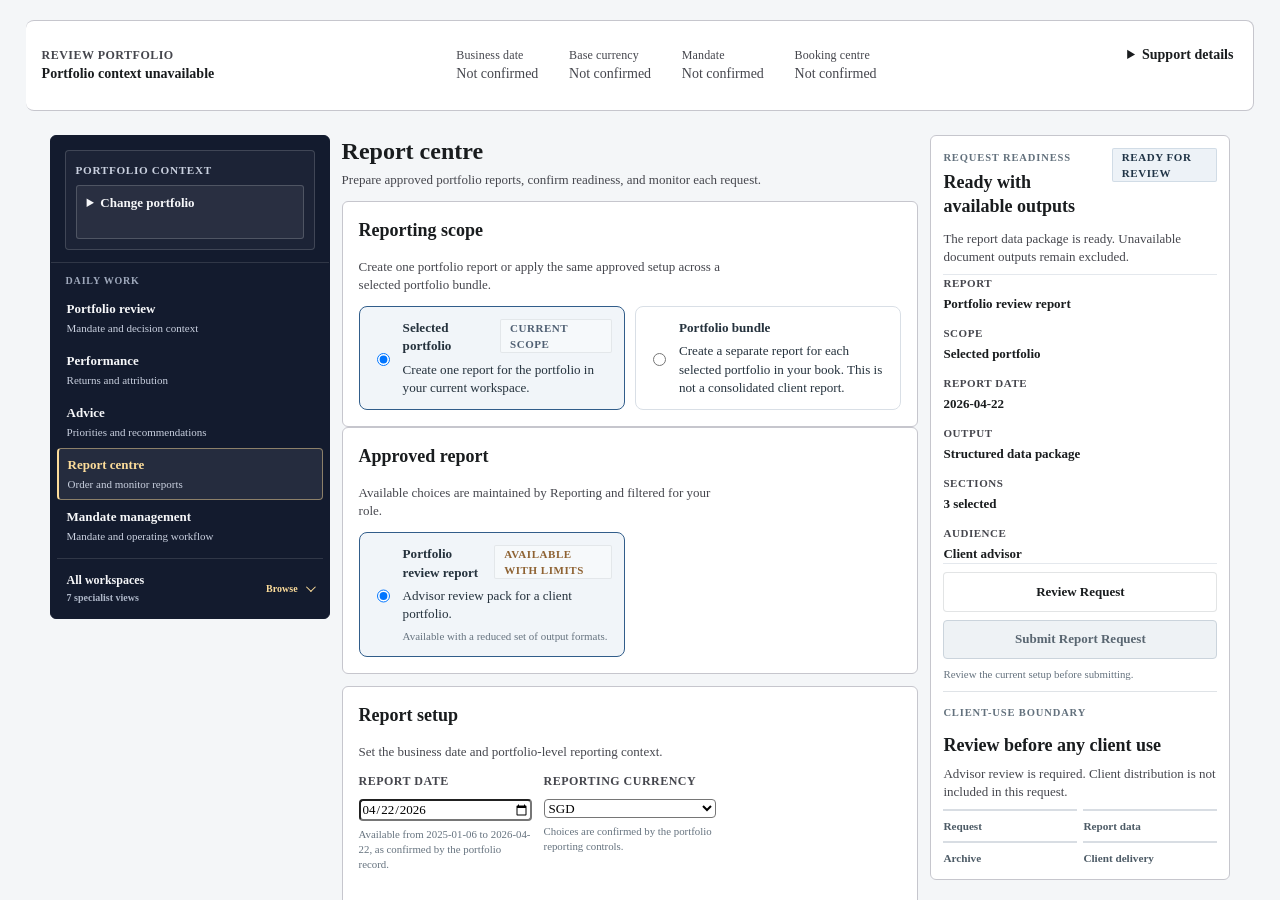
Scenario: ReportOrderingWorkspace › rejects acceptance for a different reviewed request without storing its handle
Expected: the heading "Approved report" is shown, [359, 446, 488, 466]
Click the button "Review Request".
click(1080, 592)  # box [943, 572, 1217, 612]
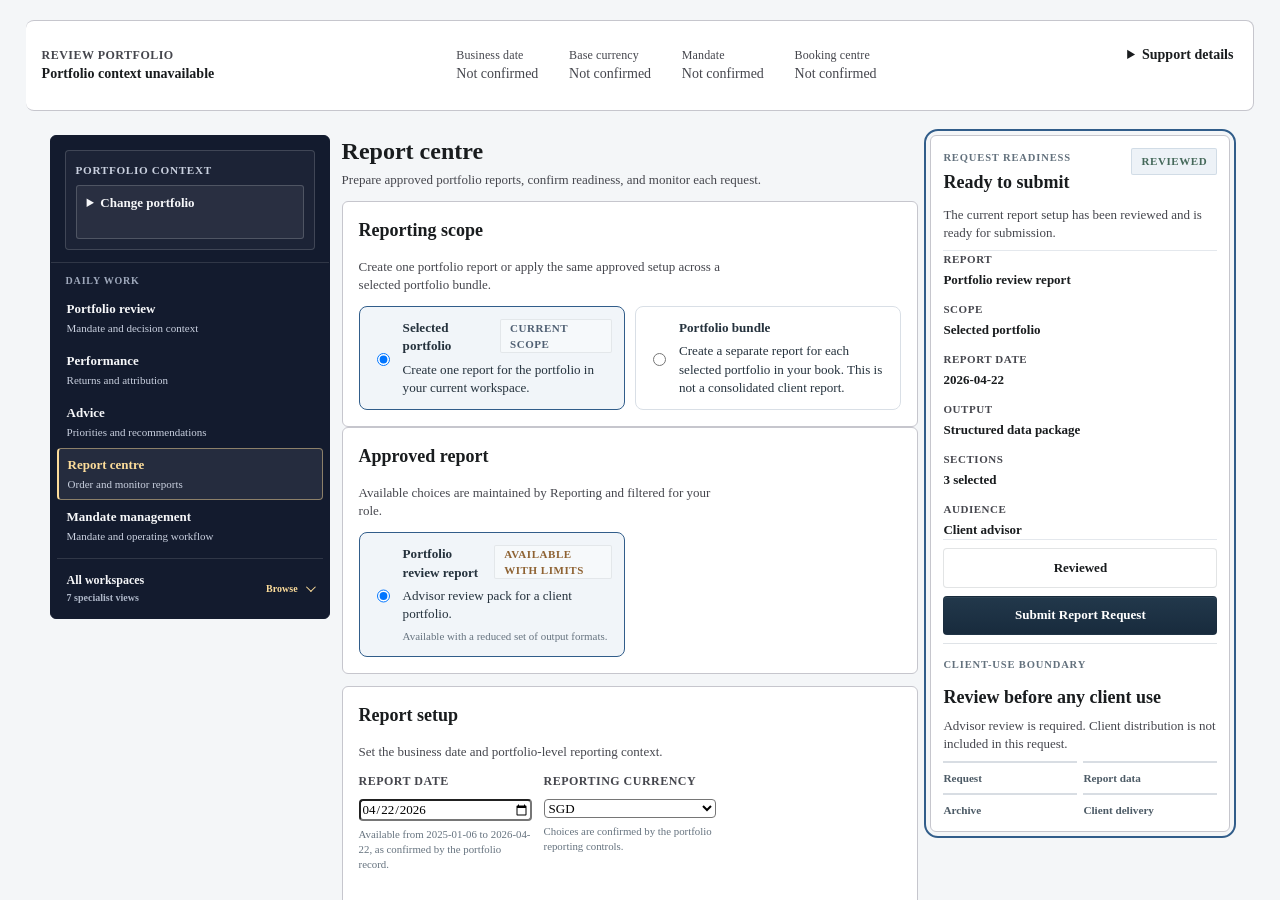
Result: the button "Submit Report Request" is enabled
Click the button "Submit Report Request".
click(1080, 616)  # box [943, 596, 1217, 635]
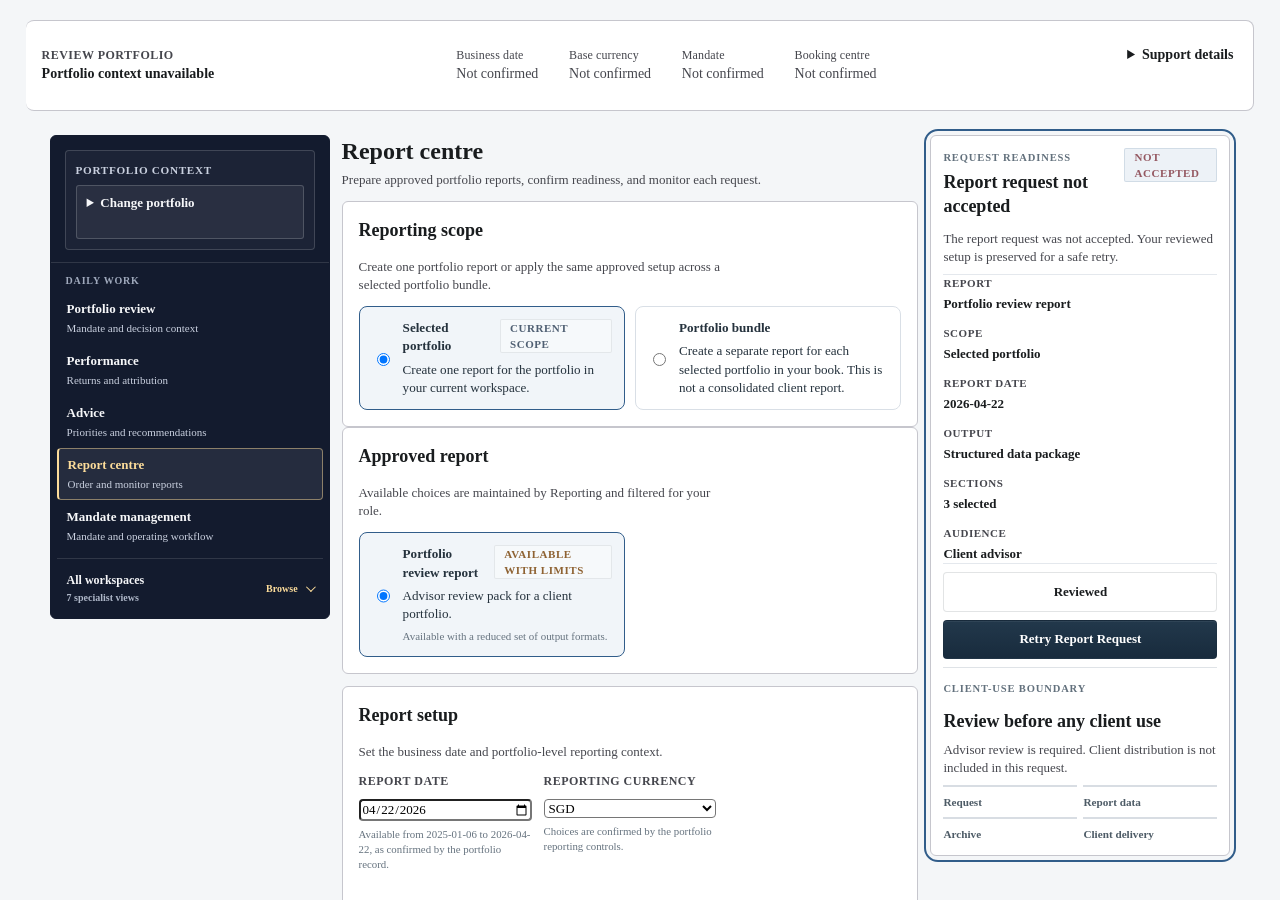
Result: the button "Retry Report Request" is enabled at [943, 620, 1217, 659]
Result: the heading "Report request not accepted" is shown at [943, 170, 1112, 218]
